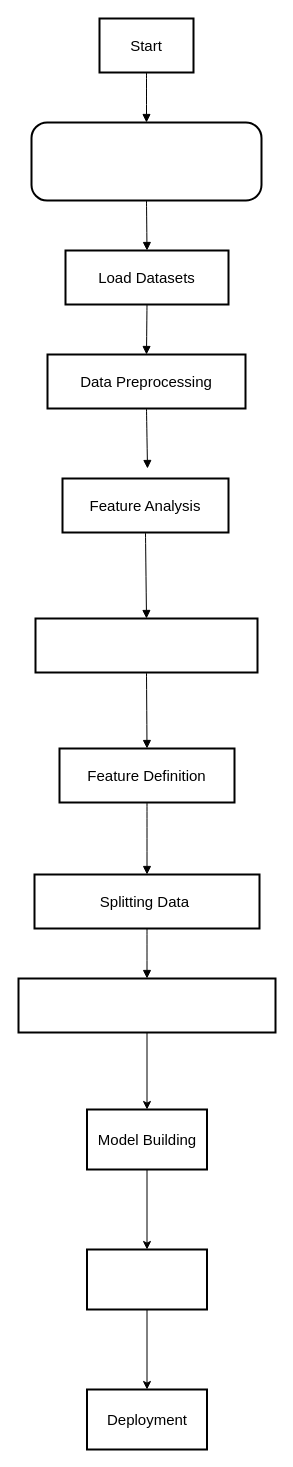
Image size: 293x1467. Some labels were removed from this diagram. Each missing label, with the centre of its shape:
"Feature Engineering" goes at (146,645).
"Feature Selection" goes at (146,1005).
"Import Libraries" goes at (146,161).
"UI Using Streamlit" goes at (147,1279).
